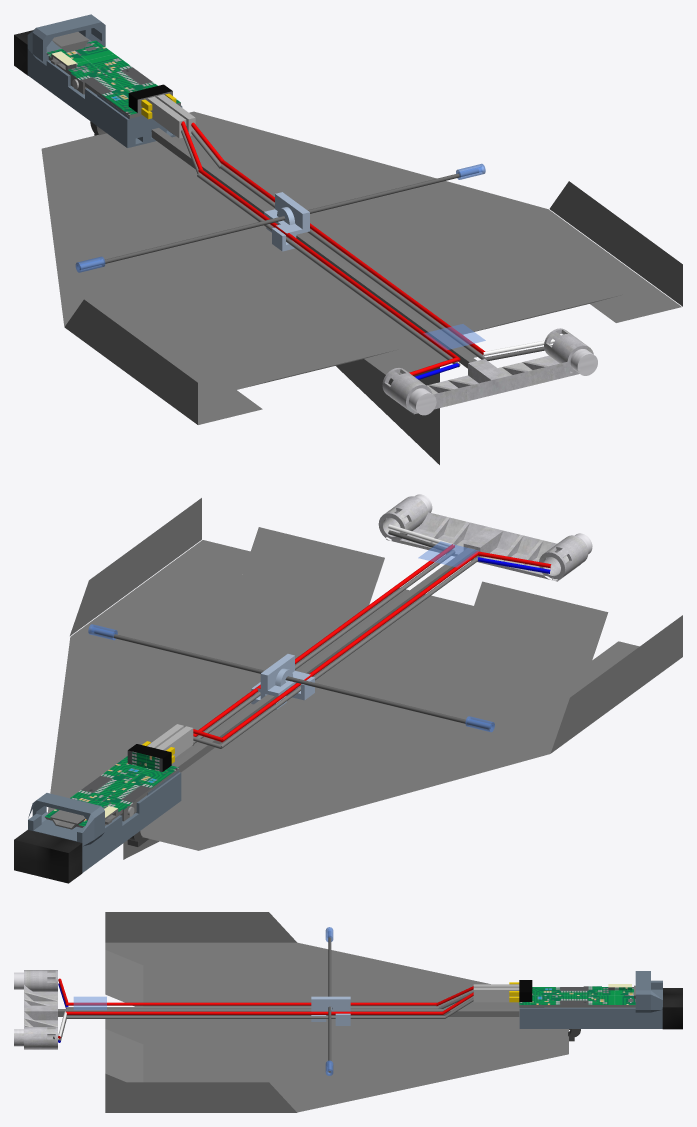
The model's file is nakamura.glb.
The picture shows the model from 3 angles, top to bottom: view 1: azimuth 30°, elevation 25°; view 2: azimuth 150°, elevation 25°; view 3: azimuth 270°, elevation 25°; orthographic projection. The views are drawn at different scales.
Parts seen in each view (by area): view 1: 元件#3, root, 720B_new_37_615_0.98a+1_Wing fence_bigger circle--current, base10-2a--current - thinker_N9a, object 6, object 2, 元件#1, bar_hook_current; view 2: 元件#3, root, 720B_new_37_615_0.98a+1_Wing fence_bigger circle--current, base10-2a--current - thinker_N9a, object 6, object 2, 元件#1, bar_hook_current, 元件#2; view 3: 元件#3, root, base10-2a--current - thinker_N9a, 720B_new_37_615_0.98a+1_Wing fence_bigger circle--current, object 2, object 6, bar_hook_current, 元件#1.
Boxes of the visible parts, bbox=[...] form: 元件#3: bbox=[41, 111, 682, 464]; root: bbox=[14, 30, 554, 379]; 720B_new_37_615_0.98a+1_Wing fence_bigger circle--current: bbox=[382, 328, 597, 415]; base10-2a--current - thinker_N9a: bbox=[27, 14, 182, 147]; object 6: bbox=[197, 169, 460, 367]; object 2: bbox=[220, 160, 485, 359]; 元件#1: bbox=[80, 169, 478, 269]; bar_hook_current: bbox=[264, 192, 309, 251]; 元件#3: bbox=[47, 498, 682, 859]; root: bbox=[14, 524, 551, 883]; 720B_new_37_615_0.98a+1_Wing fence_bigger circle--current: bbox=[378, 494, 592, 581]; base10-2a--current - thinker_N9a: bbox=[28, 770, 181, 872]; object 6: bbox=[220, 551, 478, 748]; object 2: bbox=[193, 544, 455, 743]; 元件#1: bbox=[94, 630, 490, 729]; bar_hook_current: bbox=[251, 654, 314, 709]; 元件#2: bbox=[88, 624, 494, 732]; 元件#3: bbox=[105, 912, 568, 1112]; root: bbox=[53, 978, 682, 1042]; base10-2a--current - thinker_N9a: bbox=[519, 971, 662, 1028]; 720B_new_37_615_0.98a+1_Wing fence_bigger circle--current: bbox=[14, 970, 57, 1049]; object 2: bbox=[66, 1011, 445, 1018]; object 6: bbox=[66, 1002, 439, 1008]; bar_hook_current: bbox=[311, 996, 350, 1025]; 元件#1: bbox=[328, 931, 331, 1072].
Size of the model in its own units: 0.1585 by 0.0519 by 0.2634.
Materials: 21 (5 with a texture image).
